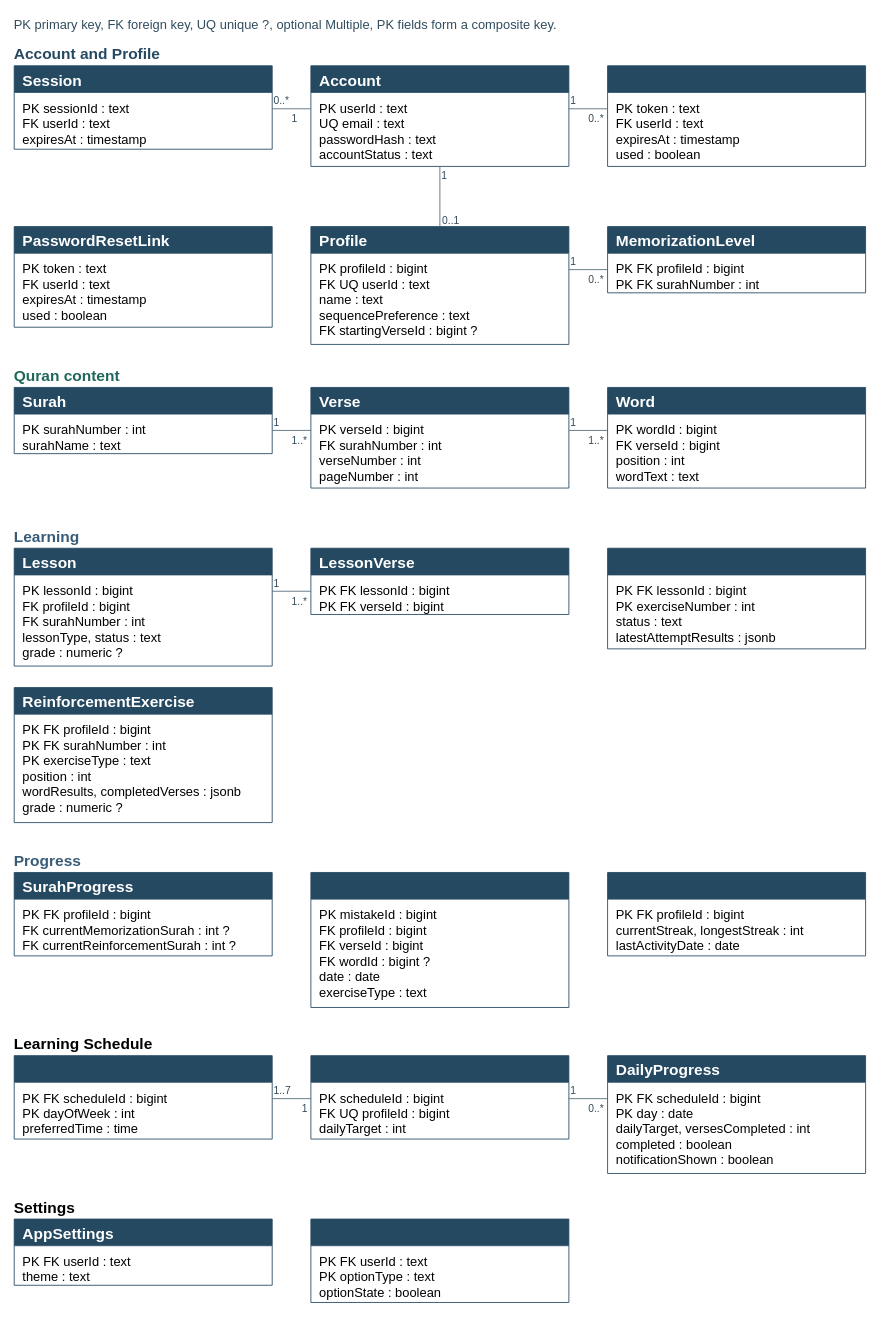
The diagram is 888 pixels wide and 1317 high, and some of its shapes have lost their labels. The shapes that lost their labels are listed below. From the top down, each one's box as (x1, y1, x2, y2) in pixels, then its label:
(607, 65, 866, 166): VerificationLink
(607, 547, 866, 649): MemorizationExercise
(607, 872, 866, 956): ActiveStreak
(310, 872, 569, 1007): MistakeRecord
(13, 1055, 272, 1139): ScheduledDay
(310, 1055, 569, 1139): LearningSchedule
(310, 1218, 569, 1302): NotificationSettings
